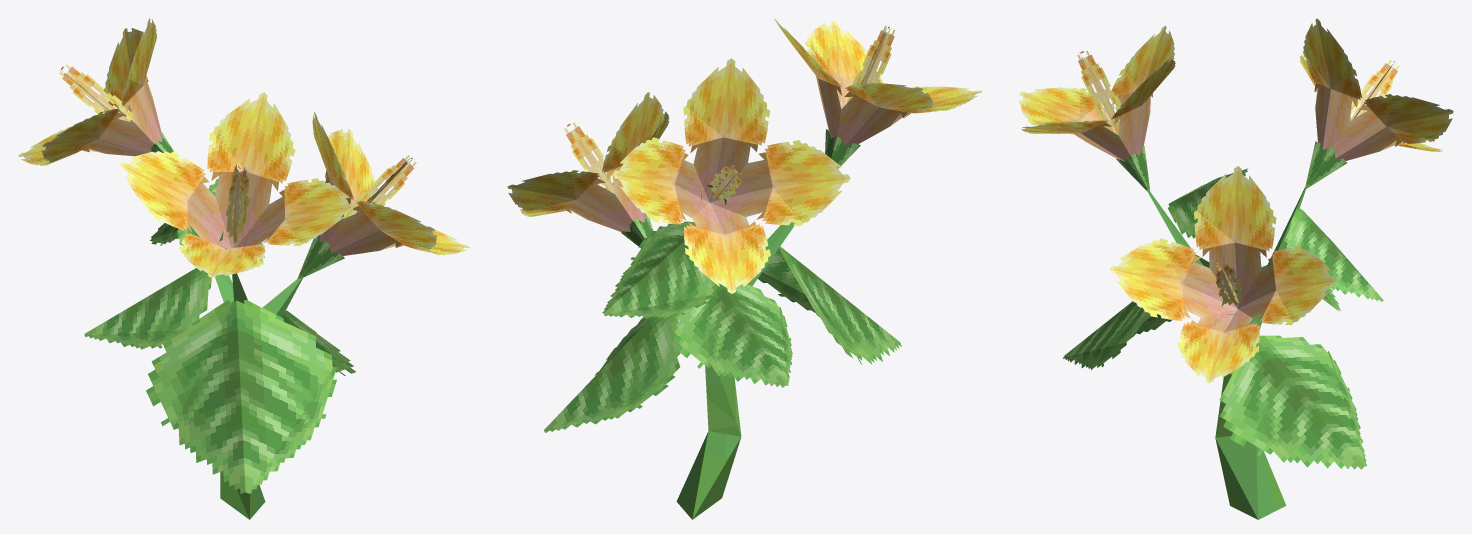
File: floweryellow.dae
3 views of the same model, side by side, from view 1: azimuth 30°, elevation 25°; view 2: azimuth 150°, elevation 25°; view 3: azimuth 270°, elevation 25° (orthographic). The views are drawn at different scales.
Parts seen in each view (by area): view 1: m0; view 2: m0; view 3: m0.
Part boxes in pixels (x1,y1,x2,y2): m0: [18, 18, 469, 519]; m0: [507, 18, 982, 519]; m0: [1019, 18, 1453, 519].
Bounding box in the file's own units: 65.32 × 78.92 × 67.69.
